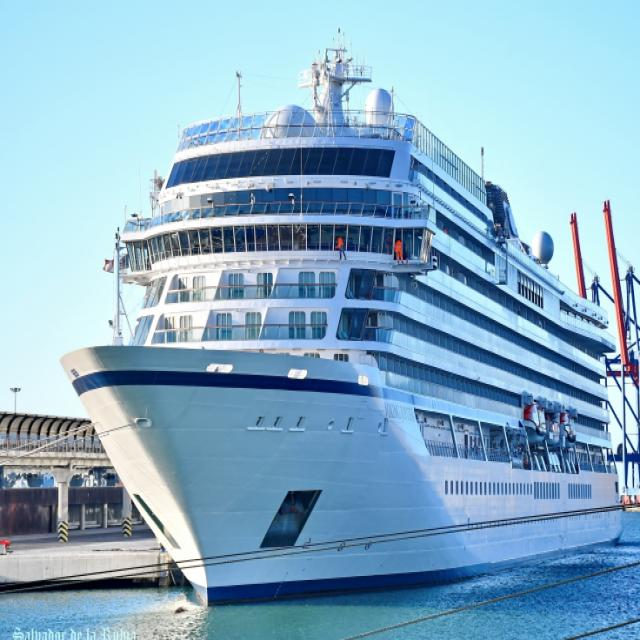cruises: (57, 30, 630, 614)
